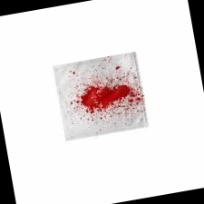blood: (78, 78, 136, 114)
